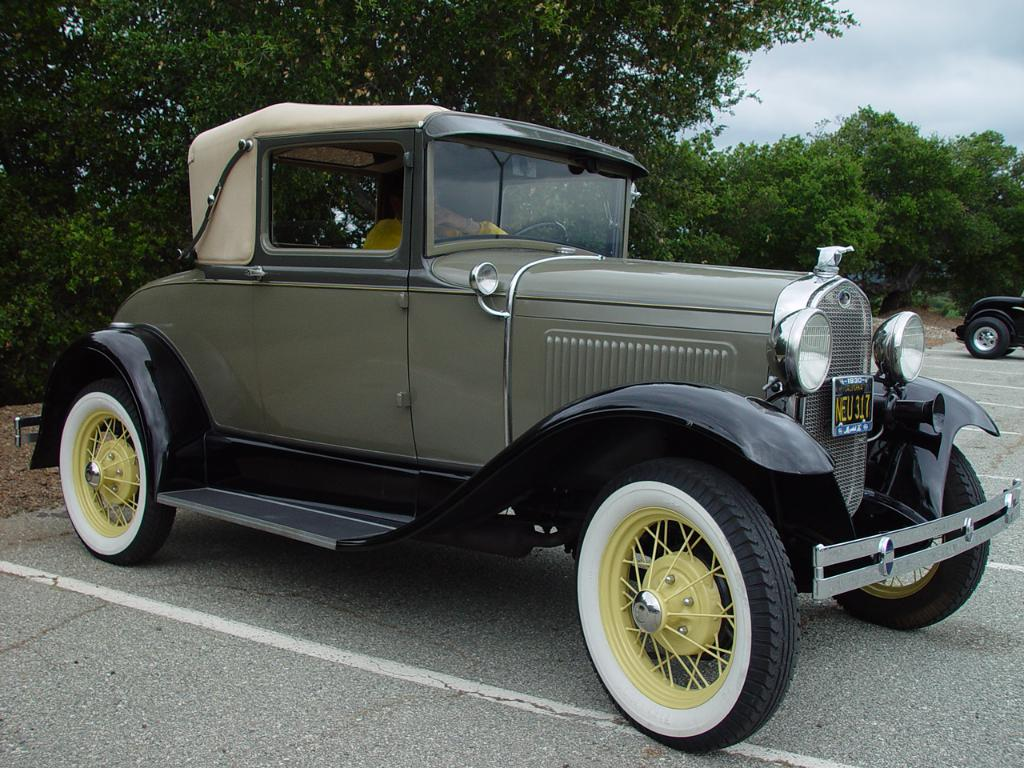Tree: (0, 0, 1024, 401)
